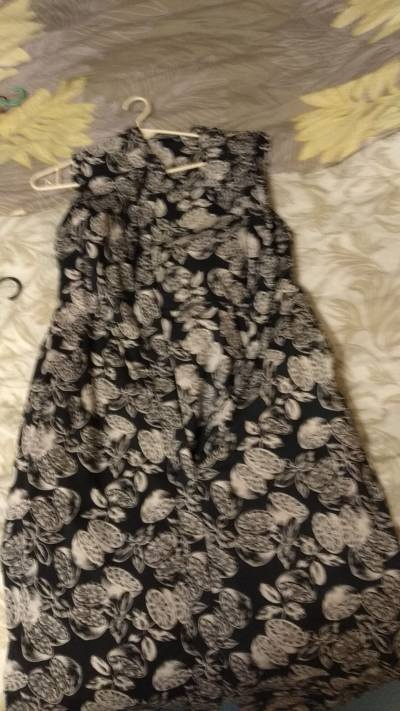Dress: (4, 109, 395, 705)
